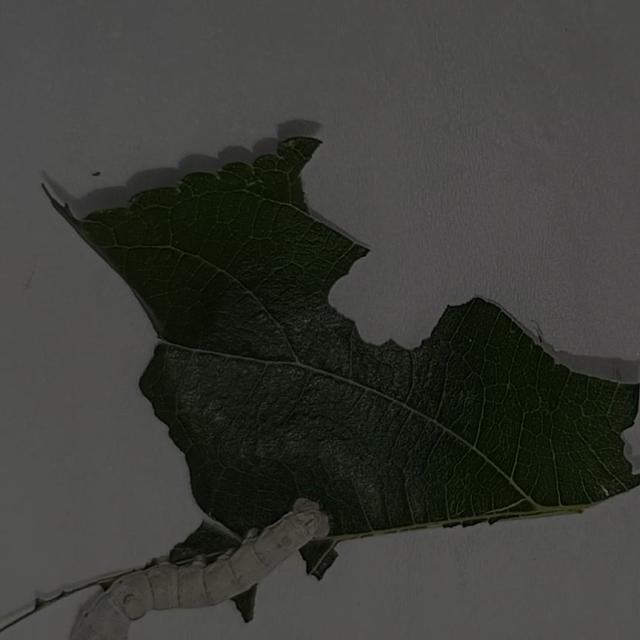Healthy: (52, 479, 345, 640)
